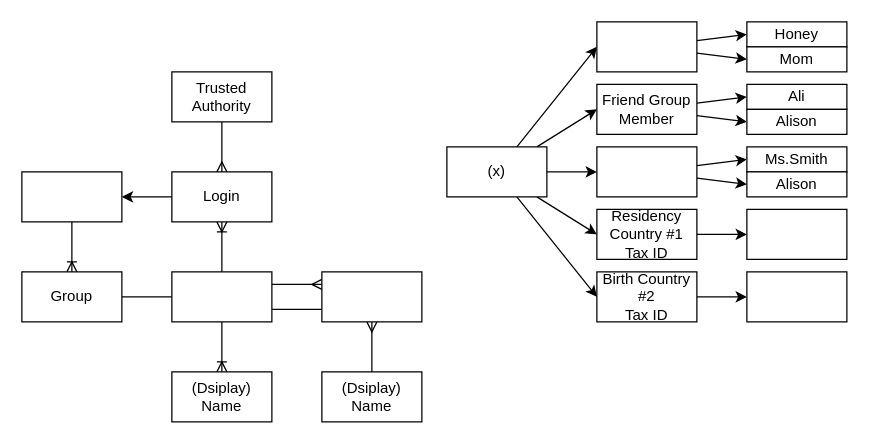
Some shapes in this 869 by 444 pixel diagram are drawn without their labels. Here are the shapes that lost their labels. From the top down, the box of each, then its label:
(596, 21, 697, 72): Family Member
(596, 146, 697, 197): Employee
(21, 171, 122, 222): Person
(746, 208, 847, 259): Alison Jones Smith
(171, 271, 272, 322): Identity
(321, 271, 422, 322): Relationship
(746, 271, 847, 322): Alison Jones Tucker (nèe)
